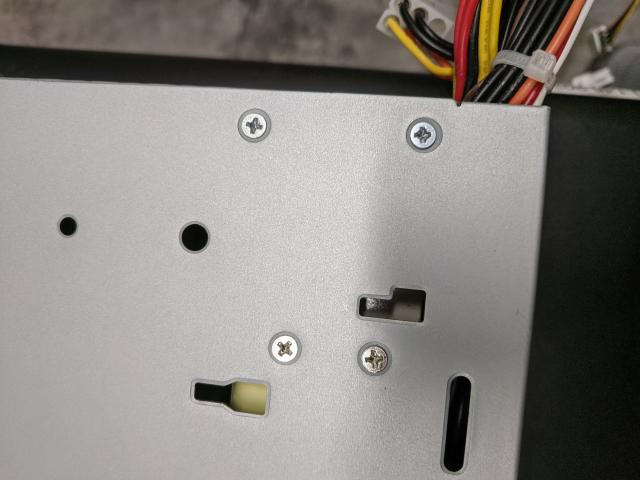CRS: (237, 110, 270, 143), (406, 117, 438, 149), (361, 342, 390, 374), (269, 334, 300, 362)
